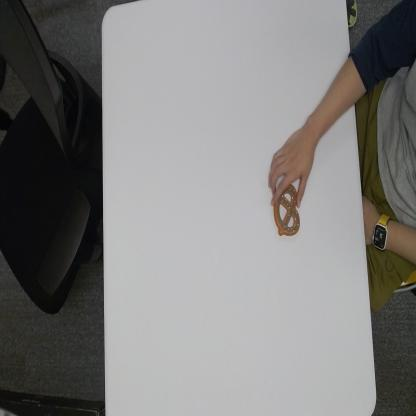Arm: (316, 46, 358, 137)
Hand: (265, 124, 316, 184)
Pretzel: (271, 184, 302, 238)
